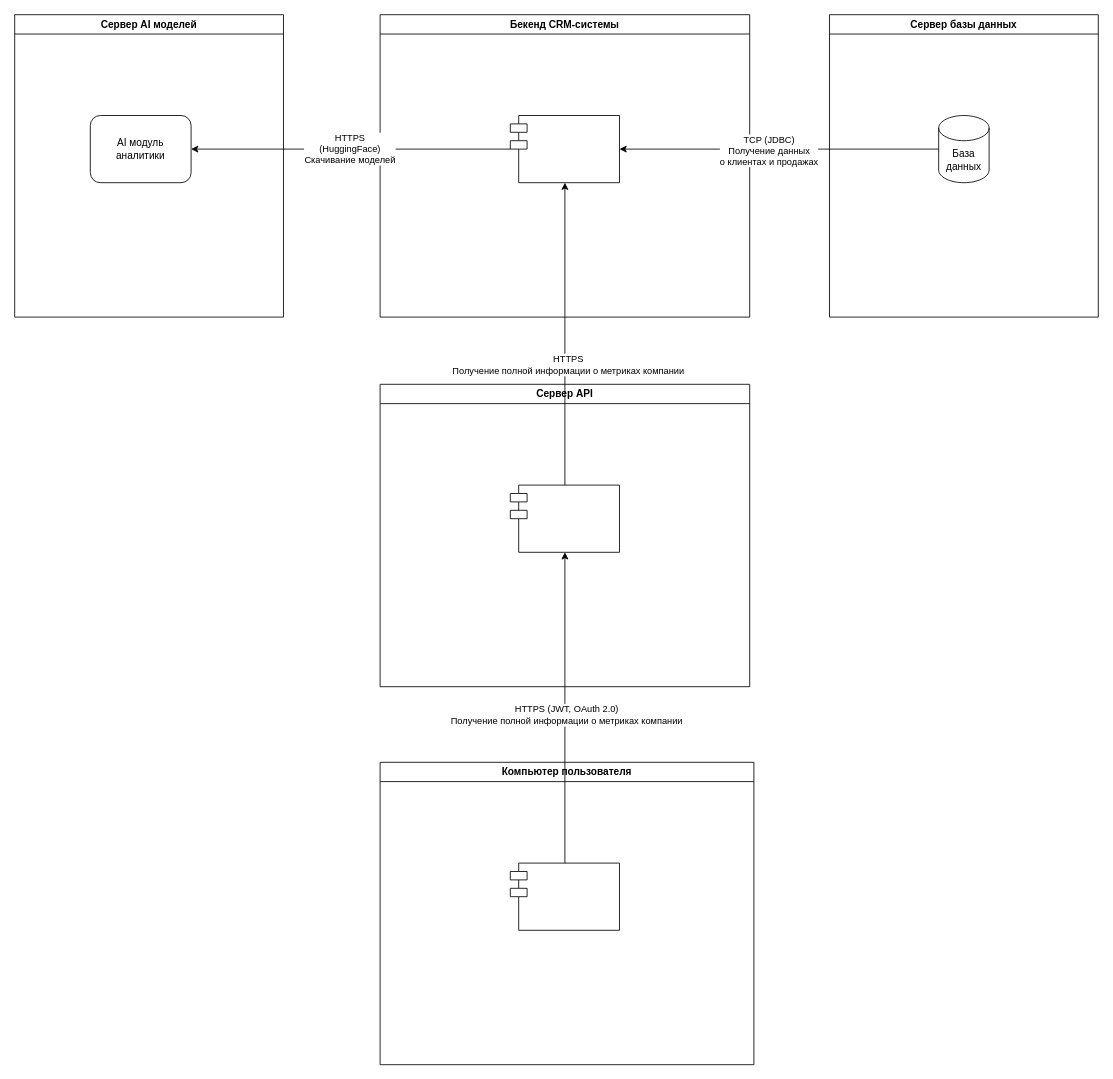
This 1113x1079 diagram has some shape labels left out. The shapes that lost their labels are listed below. From the top down, each one's centre as x and y in pixels, then its label:
At (564,149): "Веб приложение".
At (564,518): "Приложение API".
At (564,896): "Веб-клиент".
